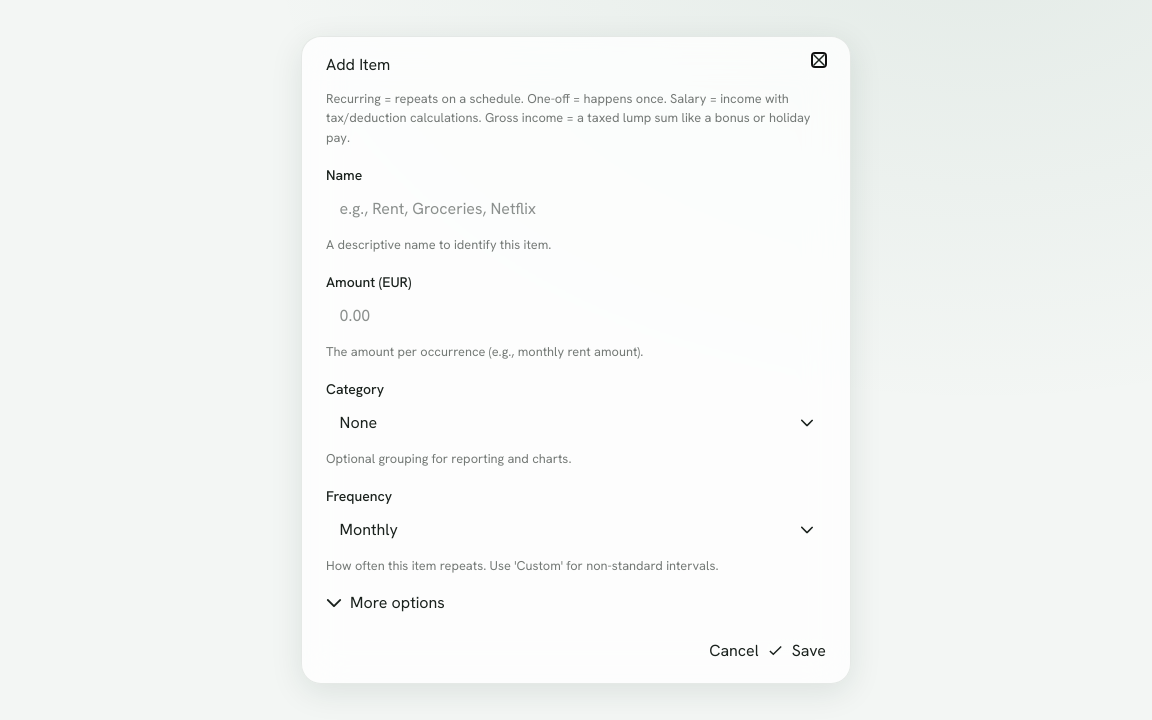
Test case: CashflowItemModal (quick-add create form) › reveals Start Month and Active after clicking More options
(page scrolled)
Click the button "More options": point(385, 603) [326, 591, 445, 615]
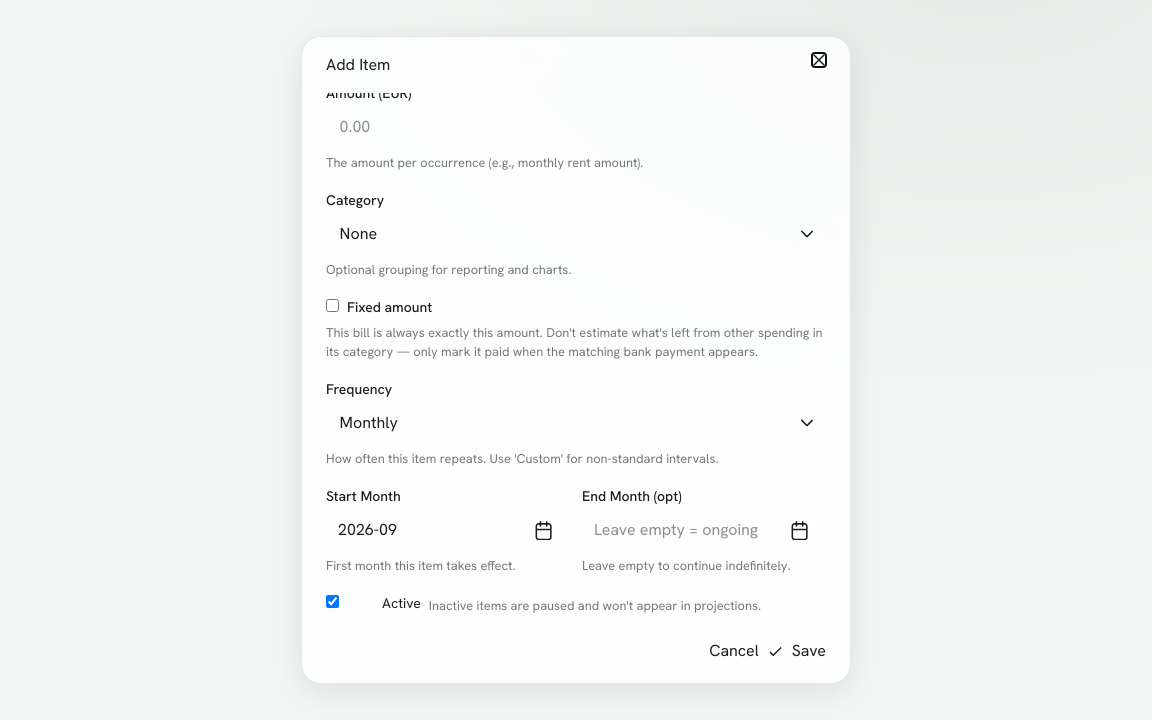
Now the text "Start Month" is shown, box [326, 487, 401, 505]
Now the text "End Month (opt)" is shown, box [582, 487, 682, 505]
Now the text "Active" is shown, box [382, 593, 421, 613]
